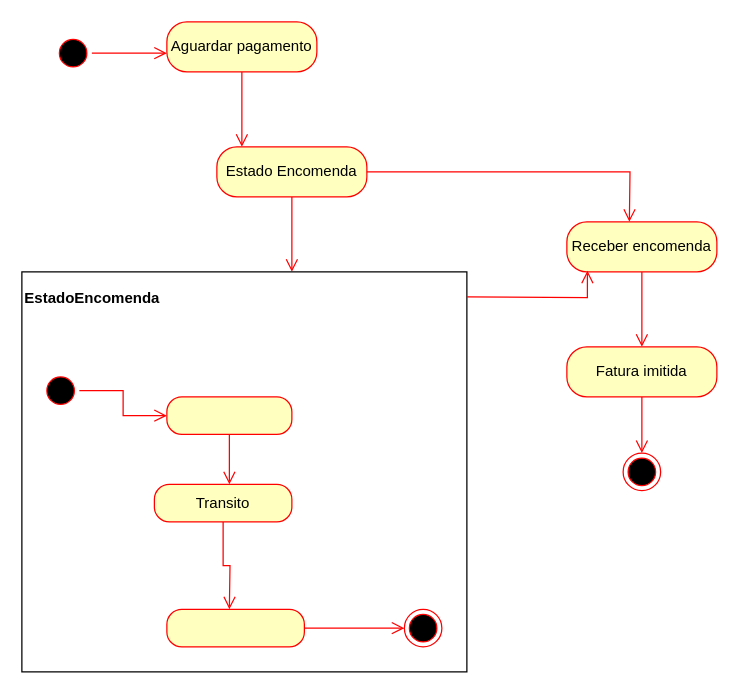
Image size: 739x694. Some labels were removed from this diagram. Here are the shapes that lost their labels. From the top down, the centre of each, then its label:
(x=229, y=415): Processamento
(x=235, y=627): Entregue
